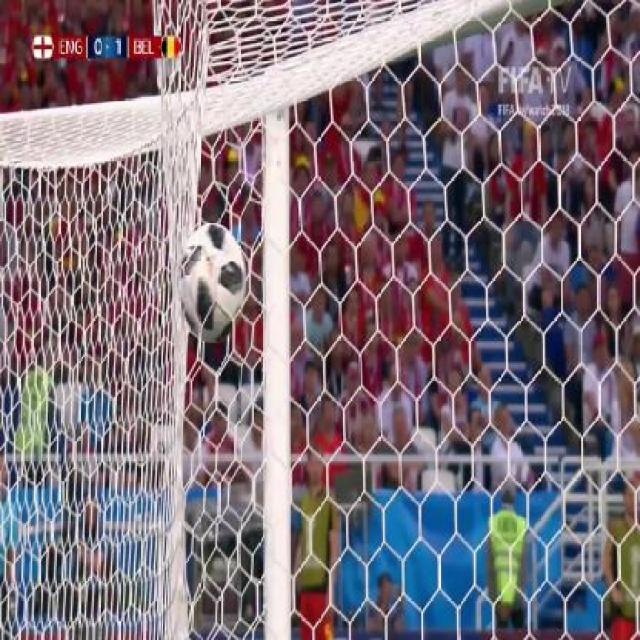ball: (172, 219, 254, 347)
